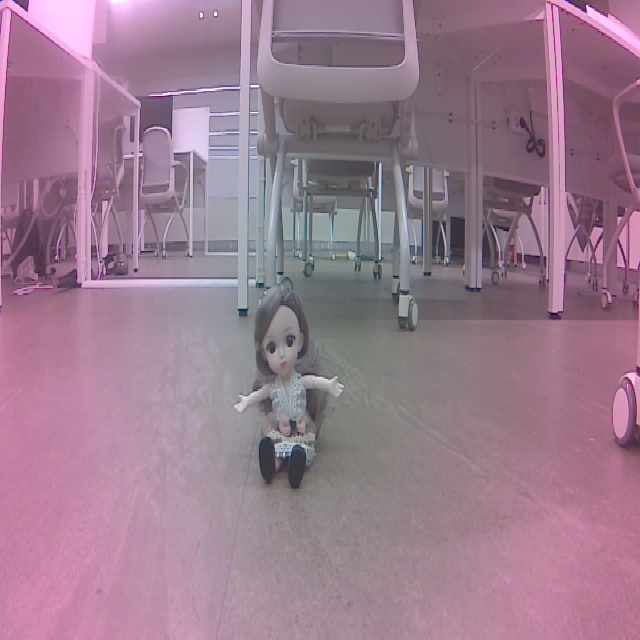장애물: (227, 283, 355, 495)
